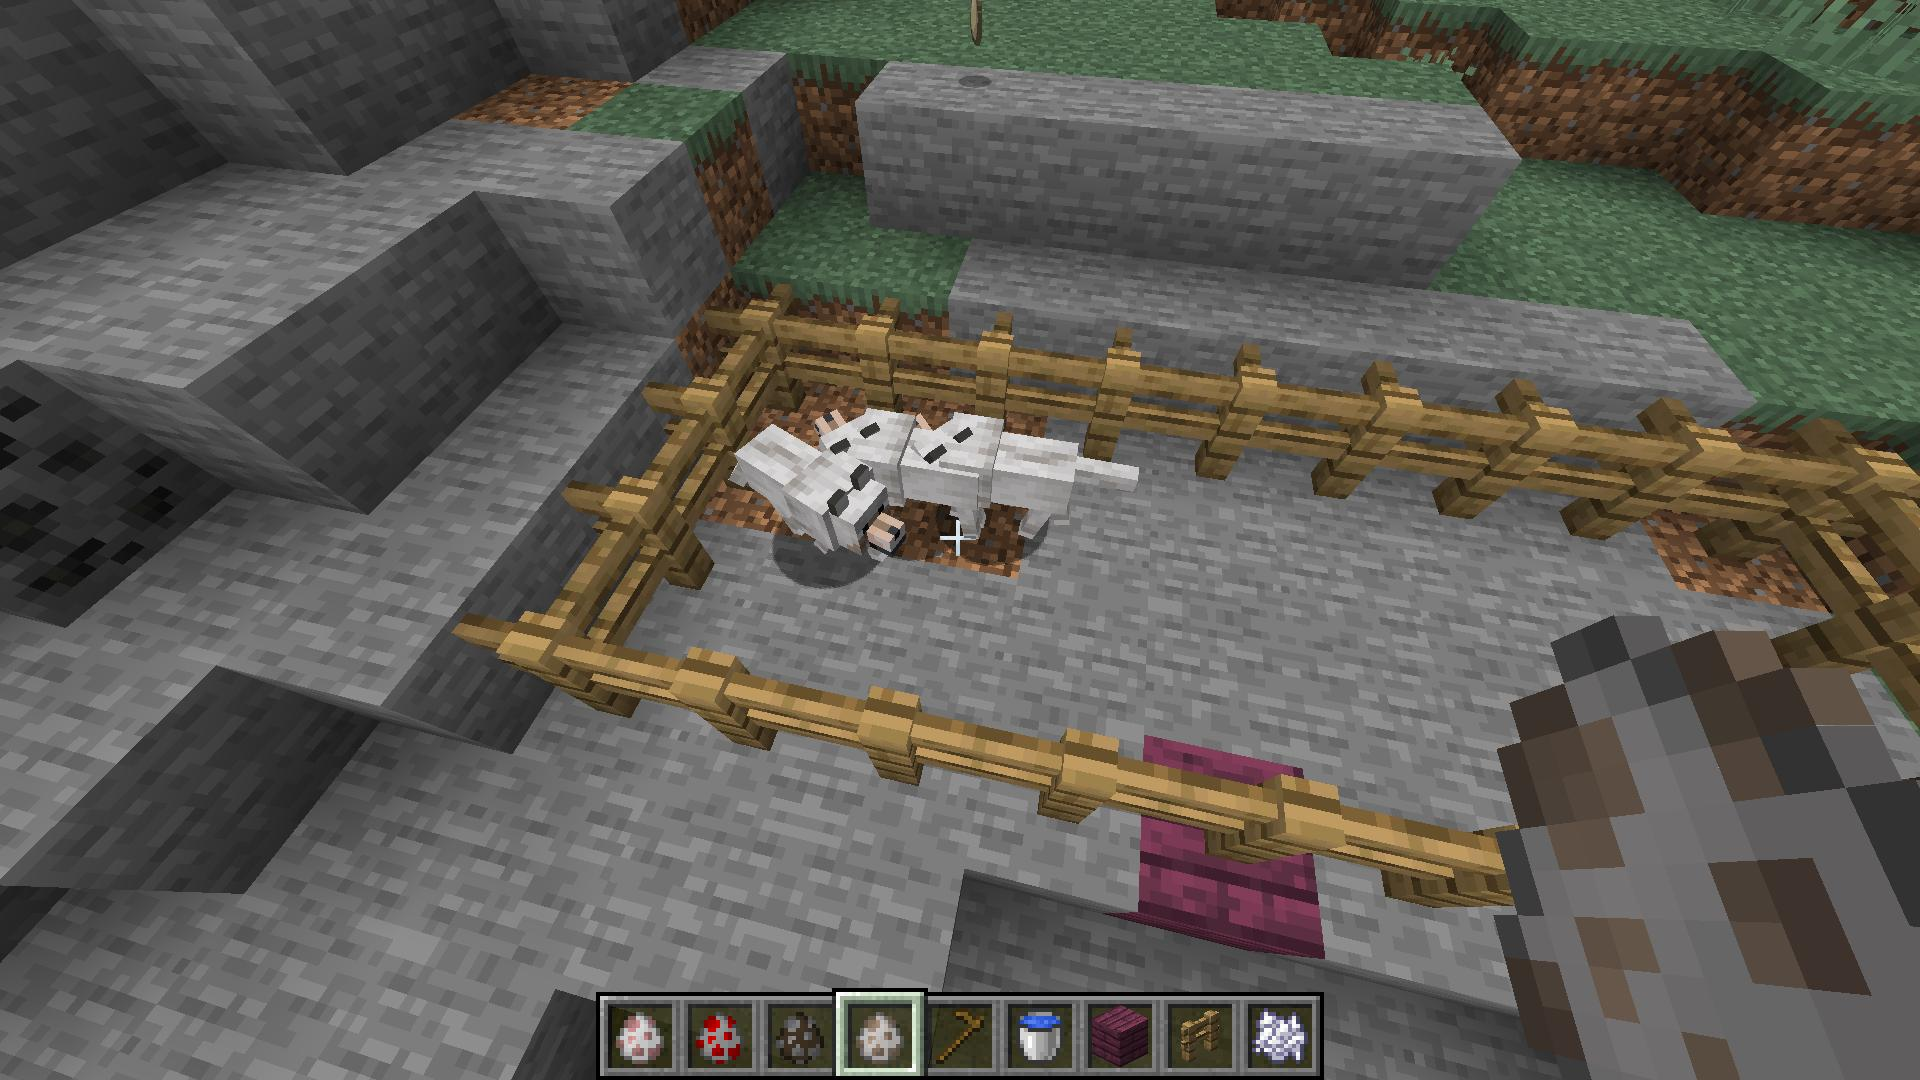wolf: (943, 411, 1150, 550), (731, 407, 901, 567)
